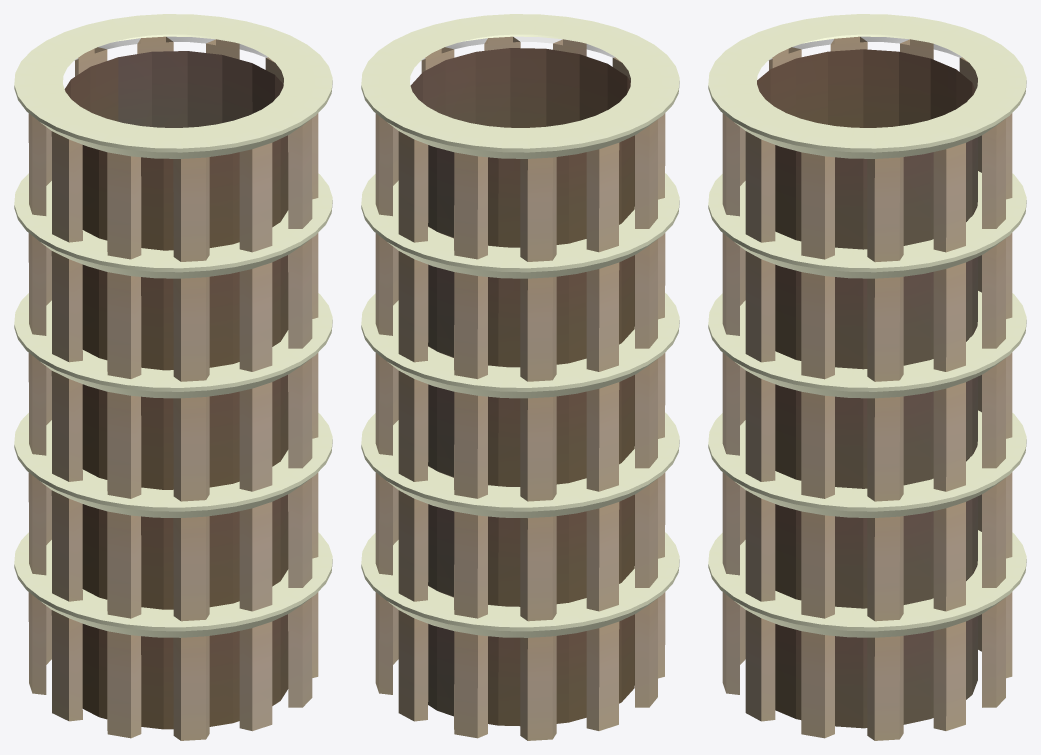
The model's file is than_pisa.fbx.
3 renders of one model, left to right at view 1: azimuth 30°, elevation 25°; view 2: azimuth 150°, elevation 25°; view 3: azimuth 270°, elevation 25°, orthographic.
Parts seen in each view (by area): view 1: than_Pisa; view 2: than_Pisa; view 3: than_Pisa.
Part boxes in pixels (x1,y1,x2,y2): than_Pisa: (14, 14, 332, 740); than_Pisa: (361, 14, 679, 740); than_Pisa: (708, 14, 1026, 740).
Size of the model in its own units: 910 by 1887 by 910.
